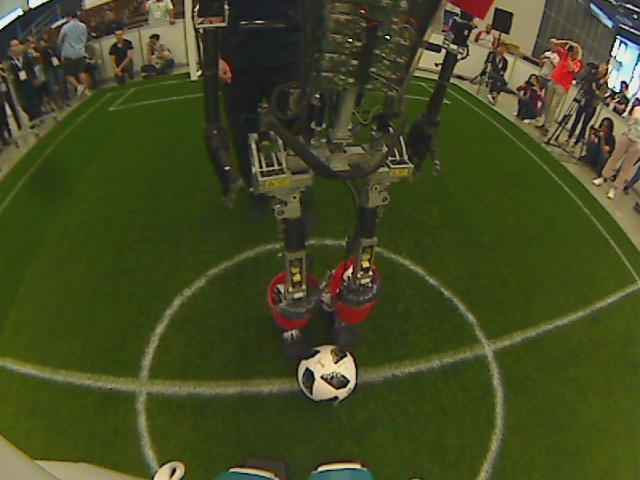ball: (298, 350, 358, 404)
goalpost: (177, 63, 203, 87)
robot: (271, 269, 375, 344)
